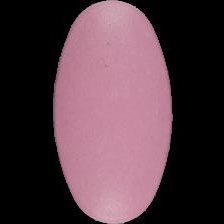53808-0940: (0, 0, 224, 224)
